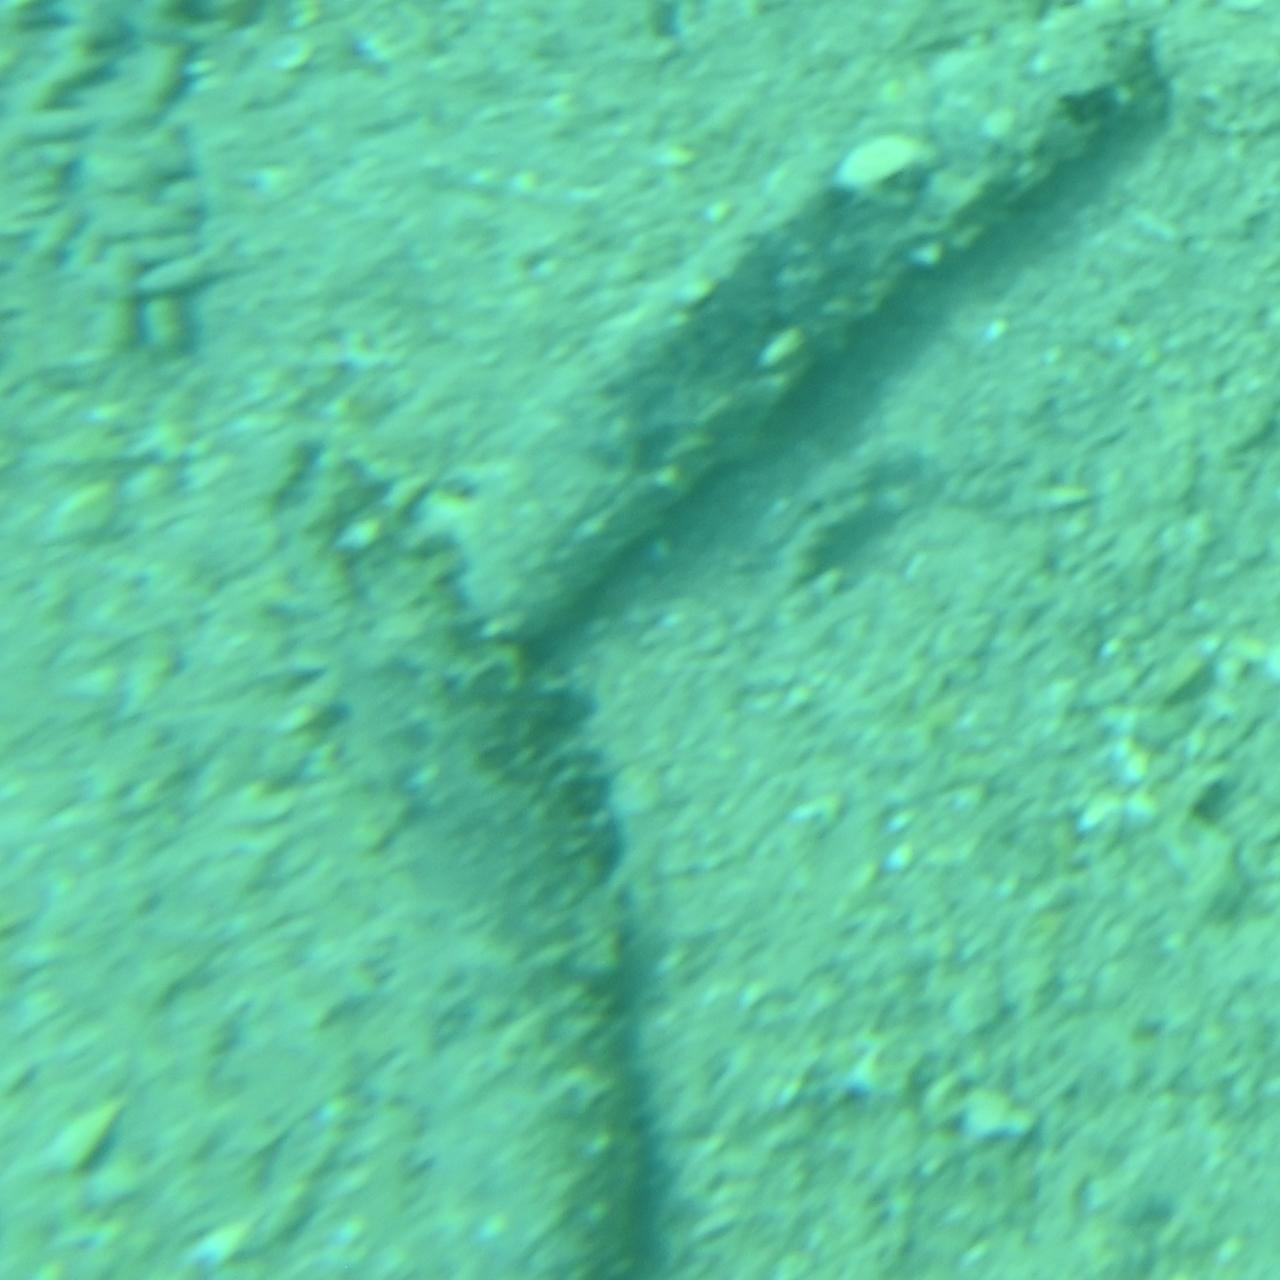Holothuria tubulosa: (418, 0, 1193, 678), (248, 429, 701, 1280)
